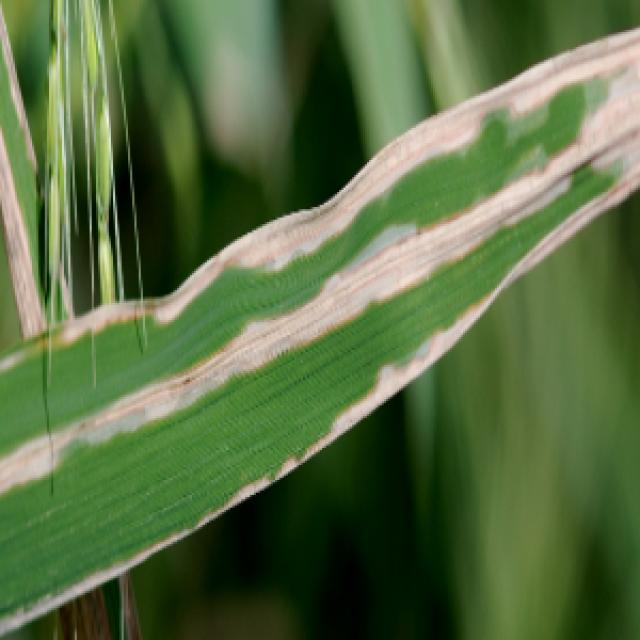Rice: (506, 136, 640, 294), (236, 152, 380, 278), (379, 182, 505, 314), (378, 78, 506, 205), (240, 258, 377, 374), (89, 336, 242, 434), (506, 27, 640, 136), (304, 365, 400, 458), (147, 237, 235, 335), (401, 316, 477, 394), (0, 429, 73, 488)
